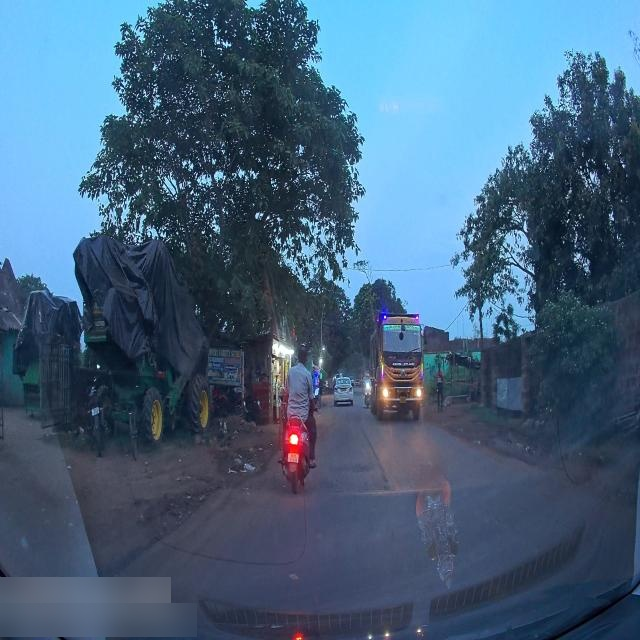pothole: (140, 482, 223, 539), (229, 460, 257, 475)
